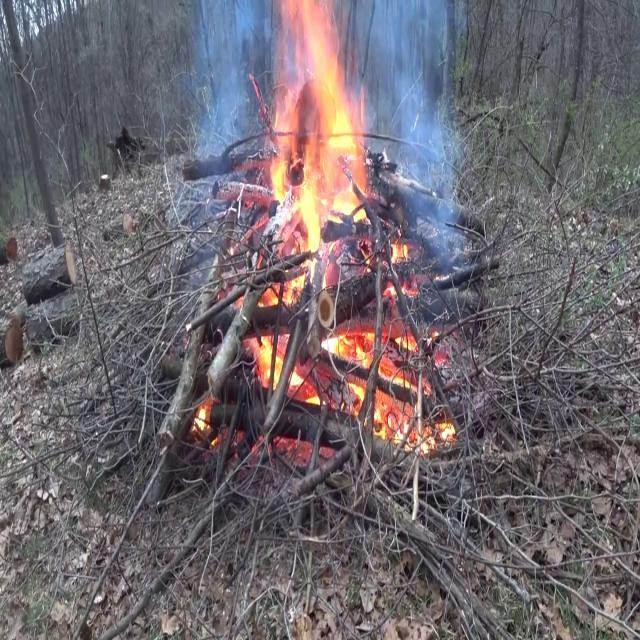Fire: (227, 0, 452, 457), (250, 2, 374, 276)
Smoke: (364, 2, 476, 257)
